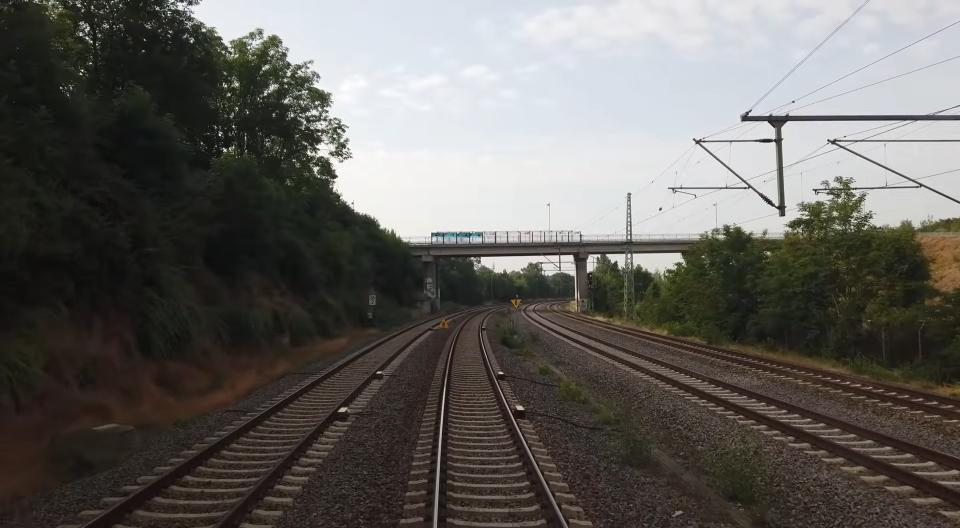Plant: (622, 417, 652, 466), (557, 377, 586, 403), (501, 328, 524, 348), (594, 407, 615, 426)
